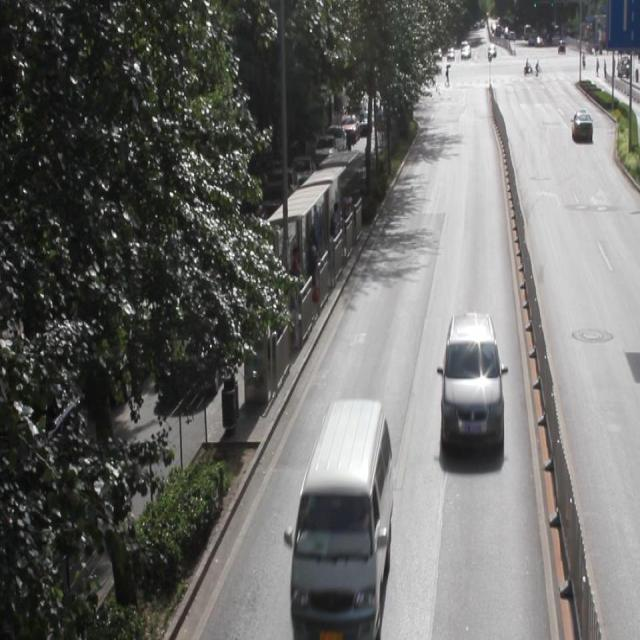car: (439, 310, 503, 452), (570, 110, 590, 142)
truck: (290, 398, 390, 640)
